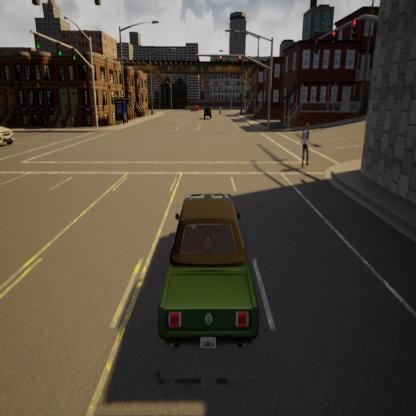Cars: (141, 183, 266, 362), (0, 110, 19, 148), (202, 103, 212, 121), (192, 101, 200, 112)
Pedestrian: (294, 118, 316, 170)
